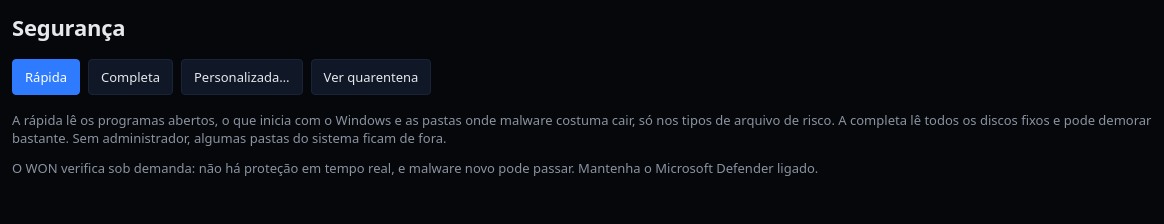
Test: Segurança › nenhum arquivo verificado não diz que nada foi encontrado
Click the button "Rápida".
click(46, 77)  # box [12, 59, 80, 95]
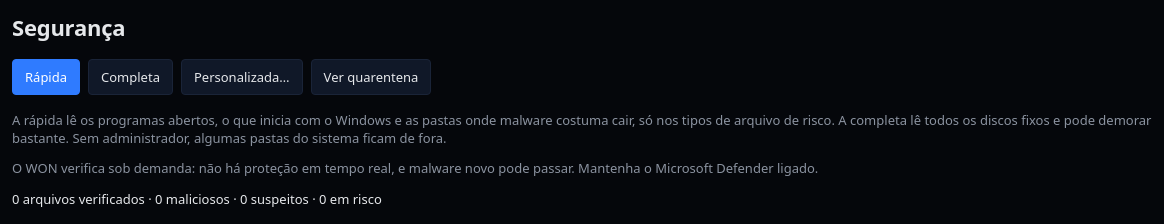
Expected: the text "0 arquivos verificados" is shown, [12, 190, 382, 208]
